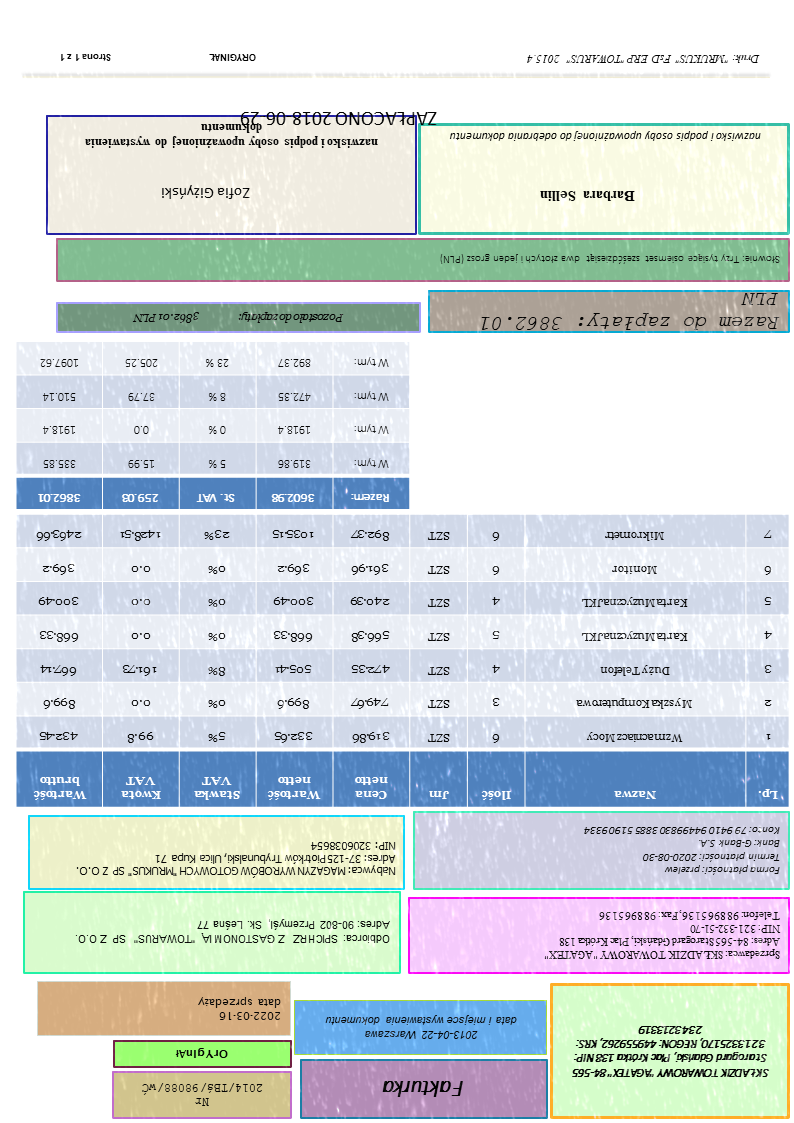Table: (16, 514, 791, 808), (16, 342, 411, 511)
TextBox: (544, 908, 784, 963), (77, 839, 399, 879), (571, 1021, 773, 1082), (480, 291, 781, 331), (581, 822, 783, 879), (71, 917, 392, 947), (83, 122, 381, 150), (323, 1013, 520, 1043), (449, 128, 764, 145), (438, 252, 782, 266), (239, 108, 440, 127), (139, 1081, 266, 1110), (524, 52, 761, 67), (129, 310, 347, 326), (58, 51, 258, 65), (195, 994, 284, 1024), (381, 1078, 467, 1099), (159, 184, 253, 201), (540, 188, 637, 204), (172, 1046, 231, 1062)
